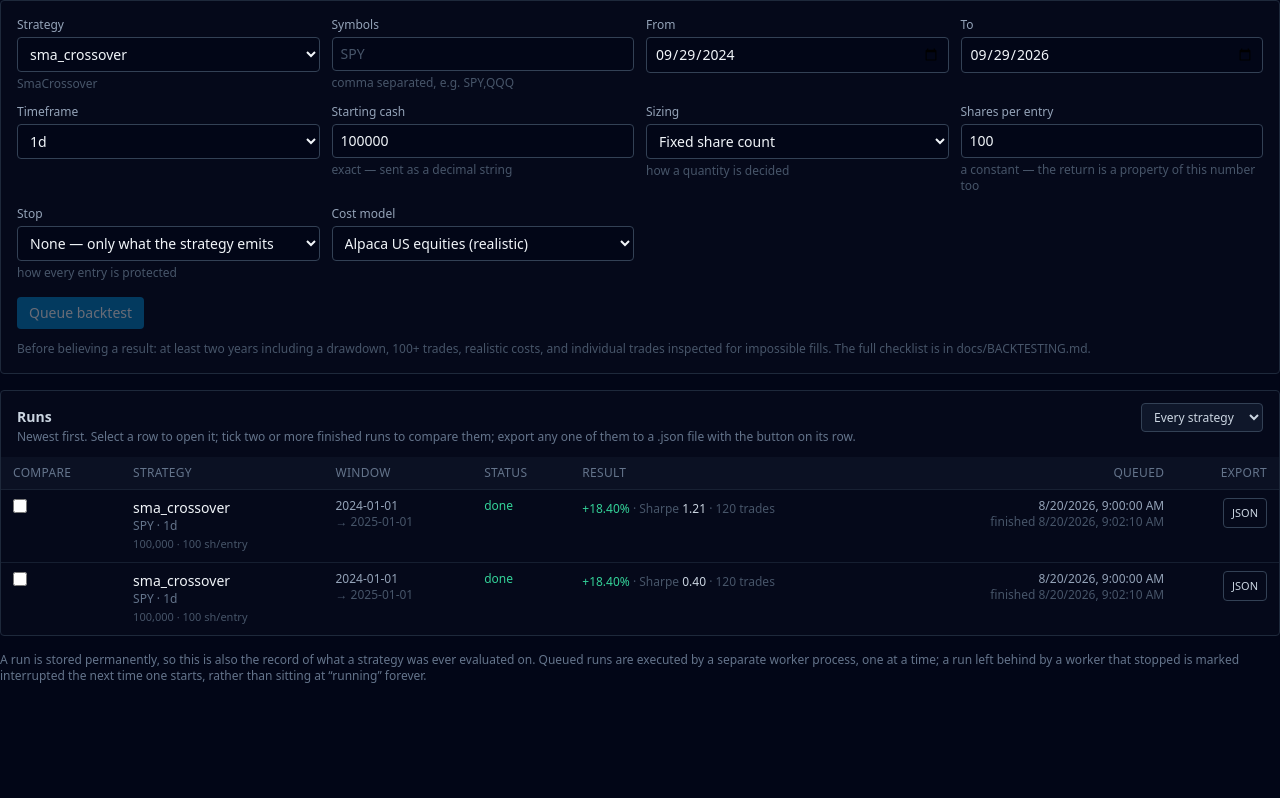
Test case: comparison › carries the overfitting warning and marks no winner
The width and height of the screenshot is (1280, 798).
Click the checkbox named "compare run-1" at {"x": 20, "y": 506}, box [13, 499, 27, 513]
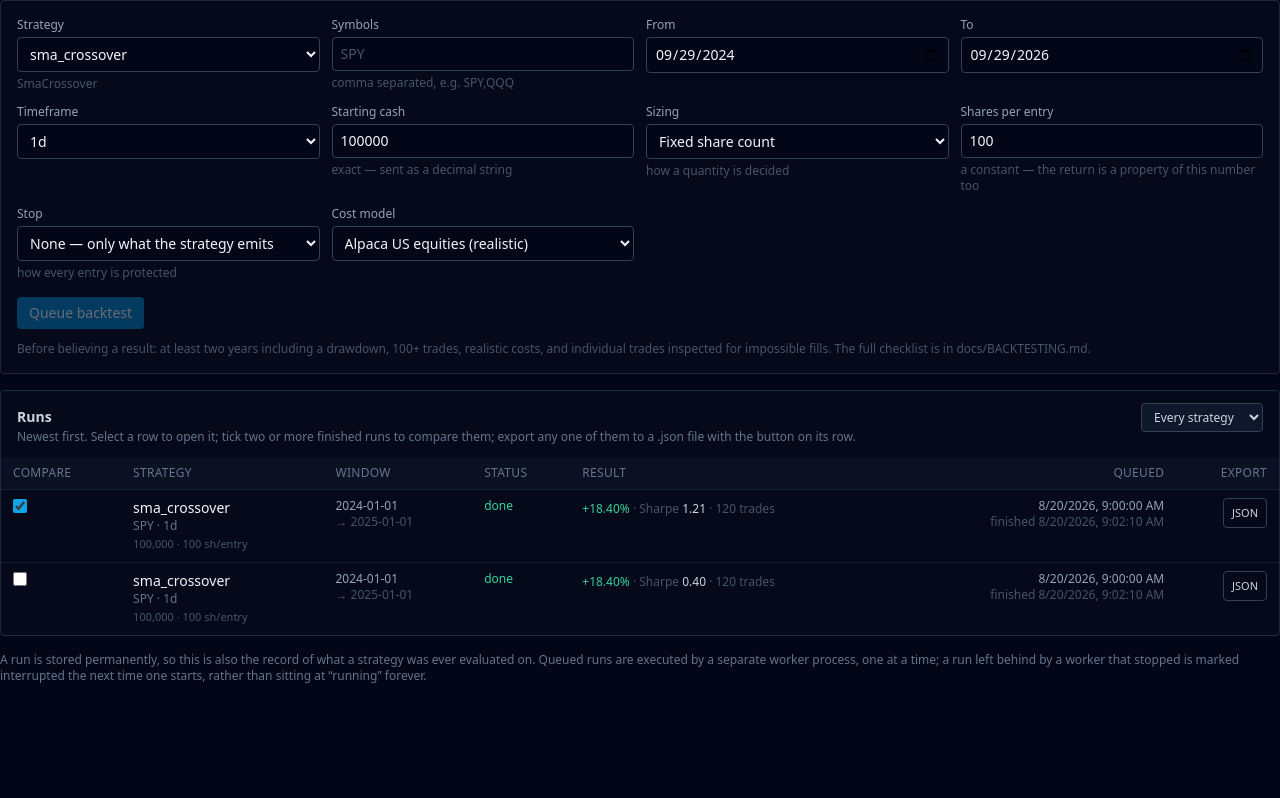
Click the checkbox named "compare run-2" at {"x": 20, "y": 579}, box [13, 572, 27, 586]
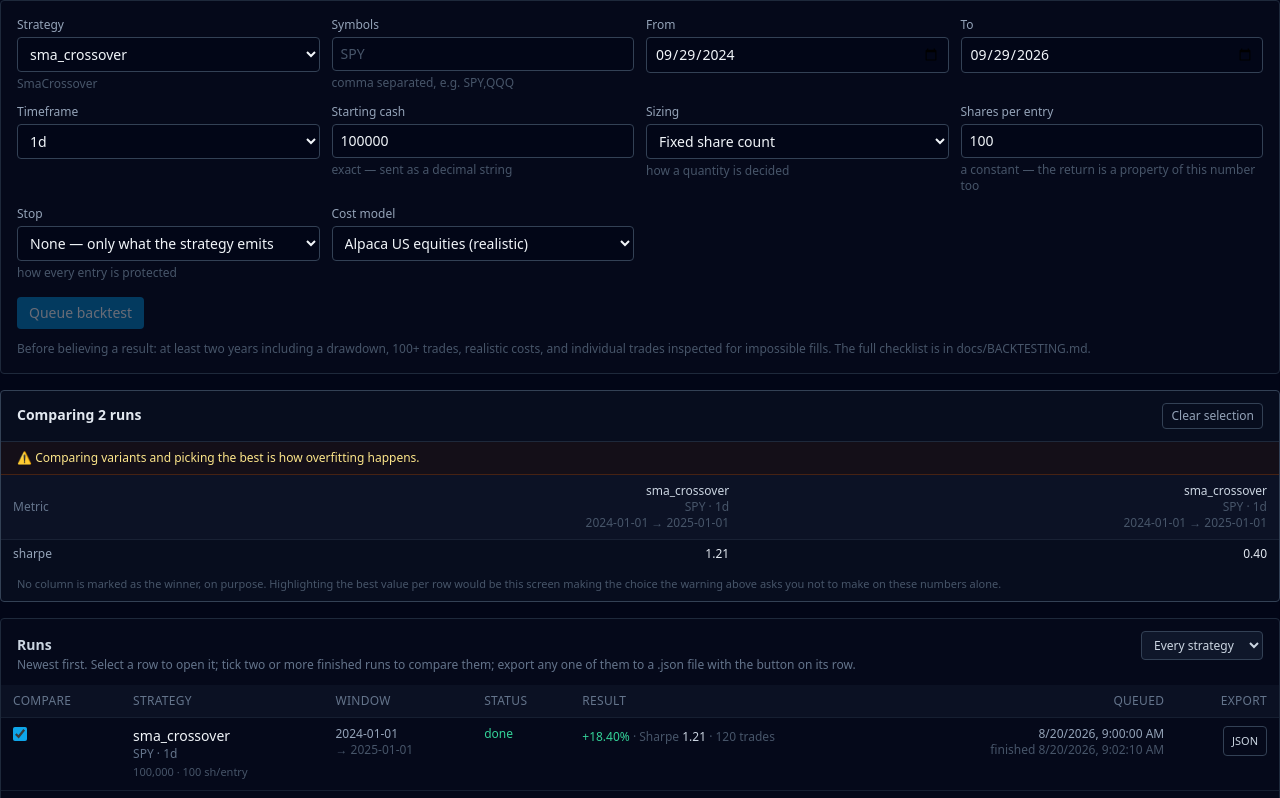
Check: the text "overfitting happens" is shown, box [35, 449, 420, 466]
Check: the text "No column is marked as the winner" is shown, box [17, 576, 1001, 591]
